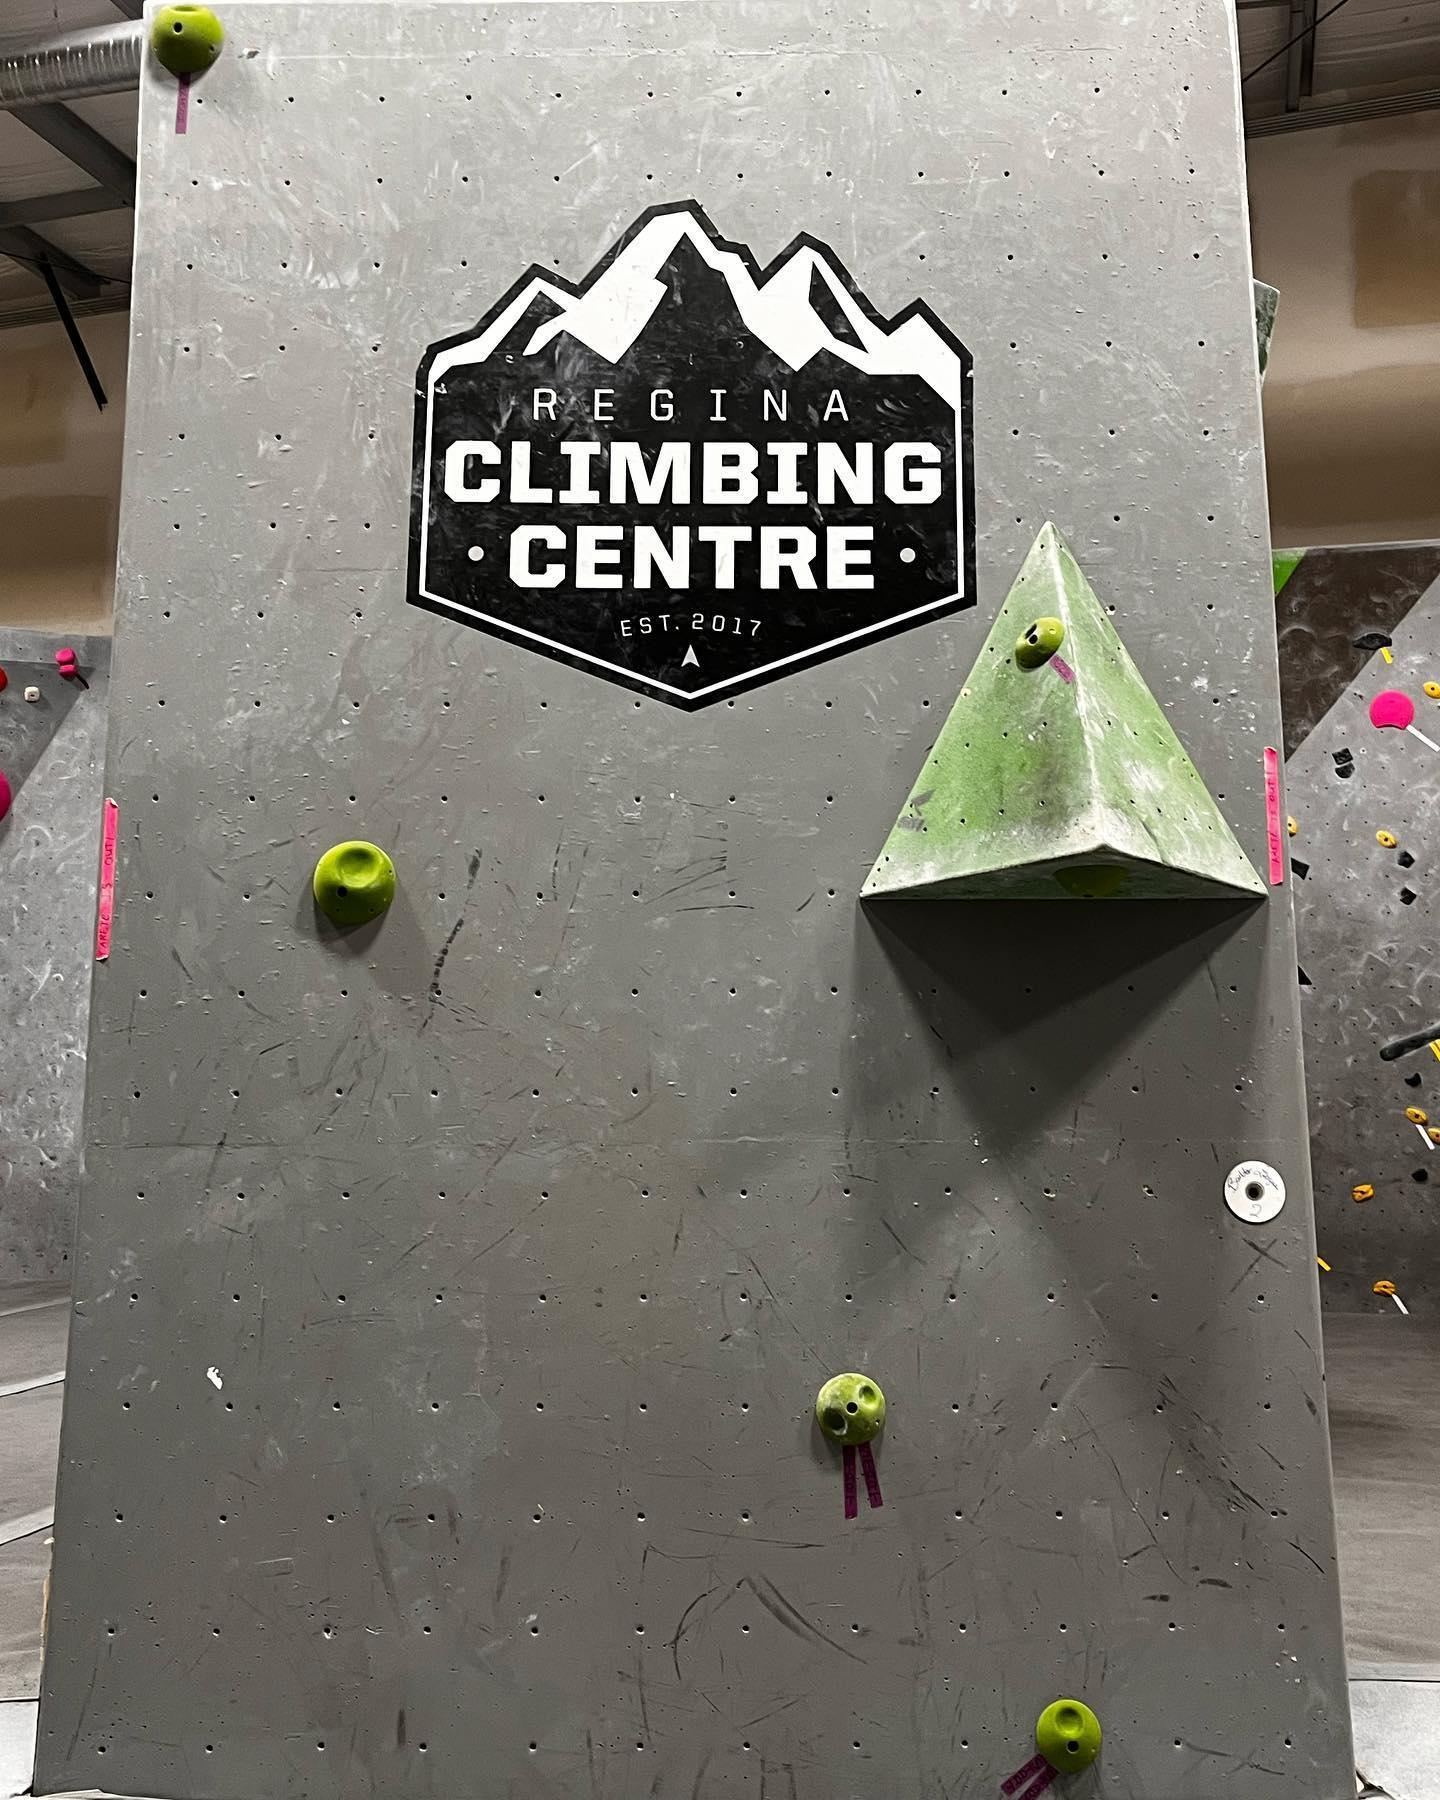hold: (313, 840, 395, 924), (151, 1, 225, 73), (817, 1372, 885, 1446), (1036, 1699, 1102, 1774), (1224, 1159, 1286, 1221), (1015, 617, 1065, 669), (1378, 1020, 1440, 1061), (1369, 691, 1415, 730), (54, 648, 78, 679), (1352, 632, 1392, 649), (1290, 857, 1311, 880), (1350, 1183, 1375, 1202), (1403, 1106, 1428, 1126), (1371, 1280, 1397, 1297), (1375, 829, 1399, 848), (1331, 746, 1353, 766), (1334, 761, 1356, 779), (1422, 680, 1440, 699), (1397, 849, 1415, 868), (1399, 886, 1416, 905), (22, 685, 41, 702), (1297, 965, 1314, 986), (1403, 1073, 1422, 1087), (1411, 1168, 1430, 1181), (1427, 1126, 1440, 1145), (1287, 816, 1299, 835)
volume: (858, 516, 1274, 898), (1252, 276, 1280, 391)
